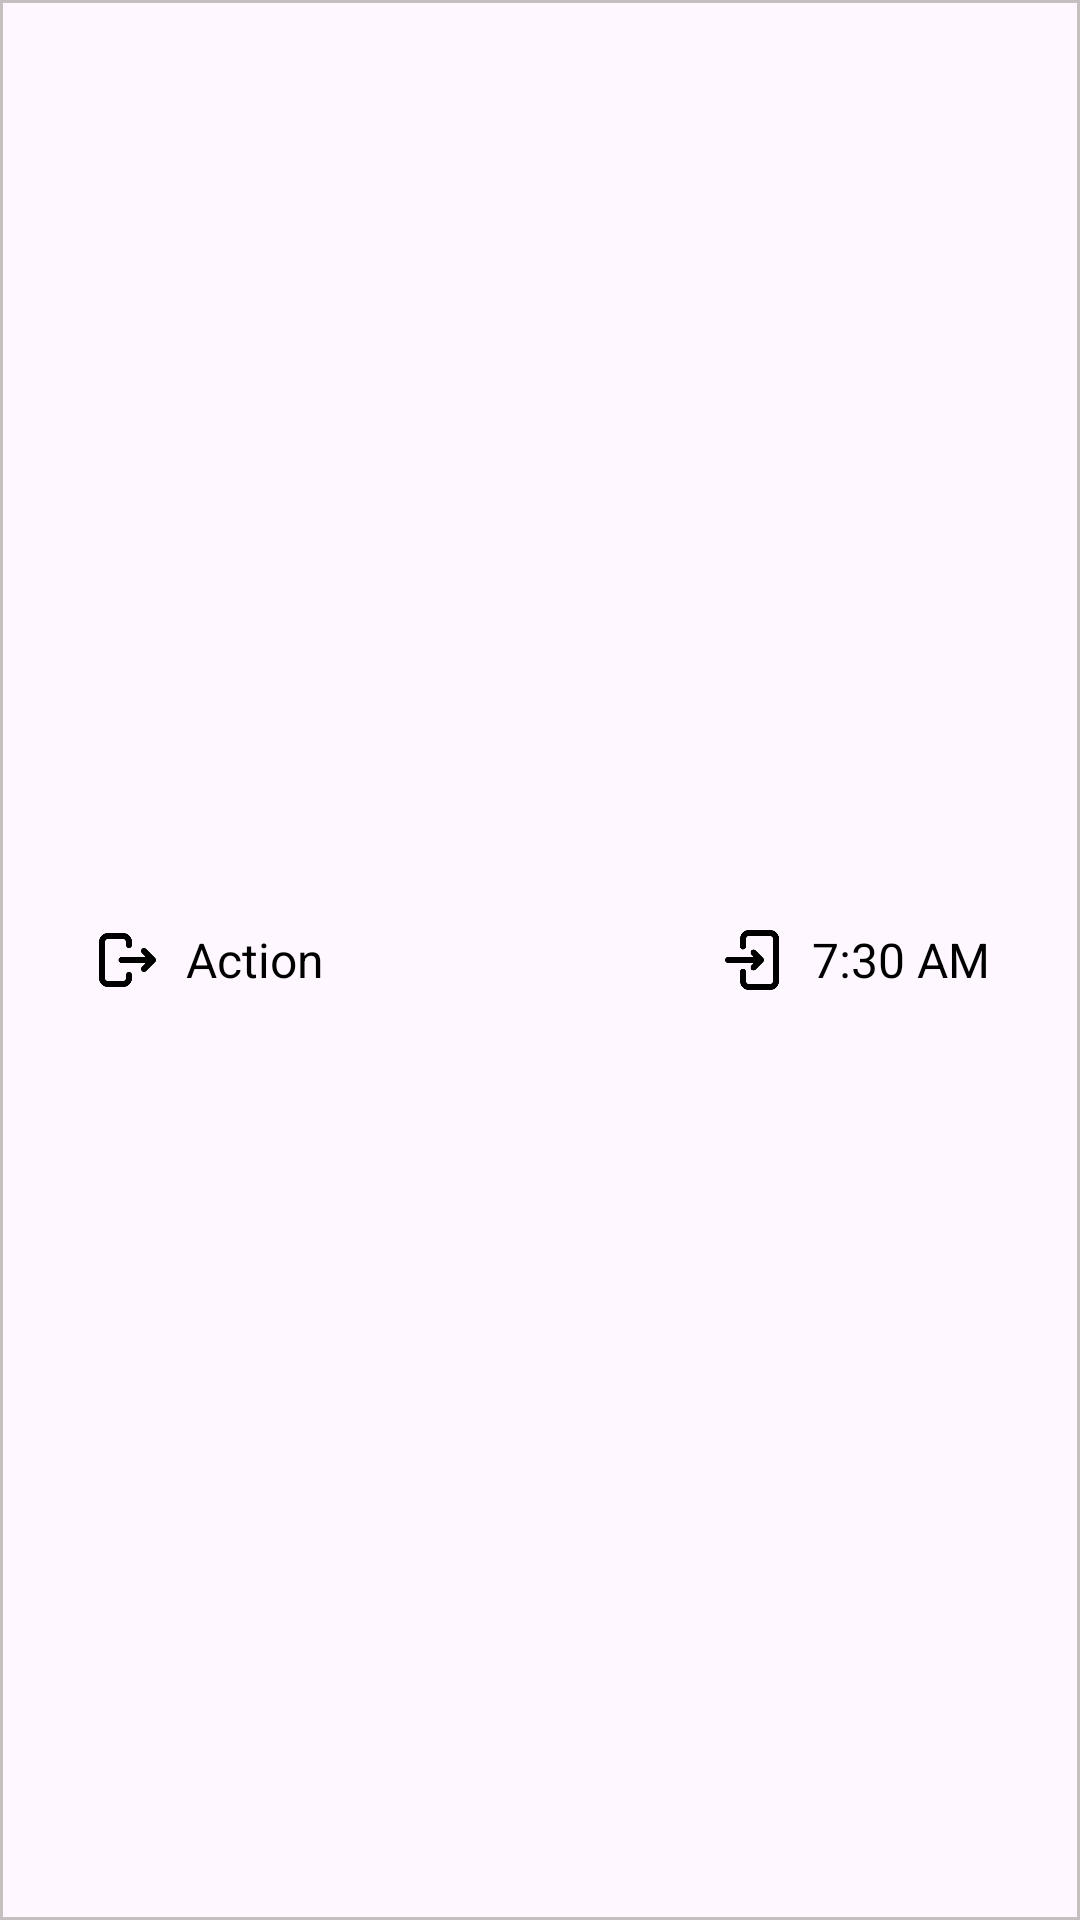

Icons on this 1080 x 1920 Android screen, each with the point to tap as (x,y):
timein: (752,960)
timeout: (127,960)
